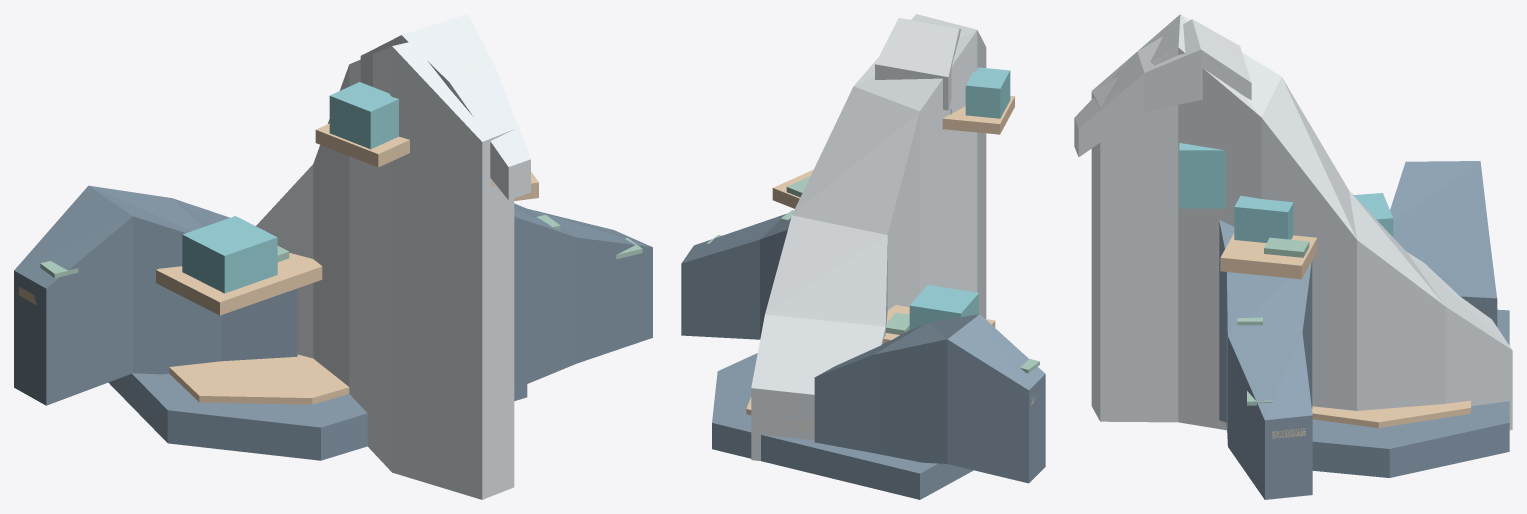
The picture shows the model from 3 angles, left to right: view 1: azimuth 30°, elevation 25°; view 2: azimuth 150°, elevation 25°; view 3: azimuth 270°, elevation 25°; orthographic projection. The views are drawn at different scales.
Parts seen in each view (by area): view 1: VERTICAL SKYBOROUGH; view 2: VERTICAL SKYBOROUGH; view 3: VERTICAL SKYBOROUGH.
Part boxes in pixels (box(x1,y1,x2,y2)): VERTICAL SKYBOROUGH: box(14, 14, 652, 499); VERTICAL SKYBOROUGH: box(681, 14, 1045, 499); VERTICAL SKYBOROUGH: box(1074, 14, 1512, 499).
Bounding box in the file's own units: 251 × 194 × 204.
